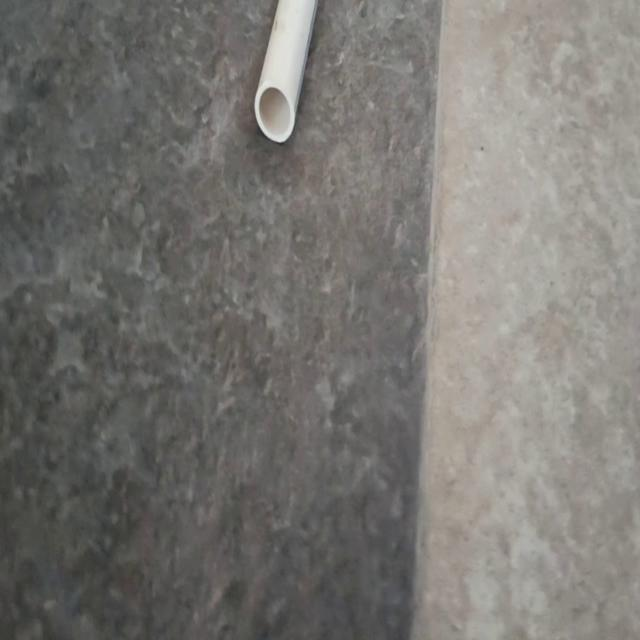Cube: (253, 0, 318, 144)
